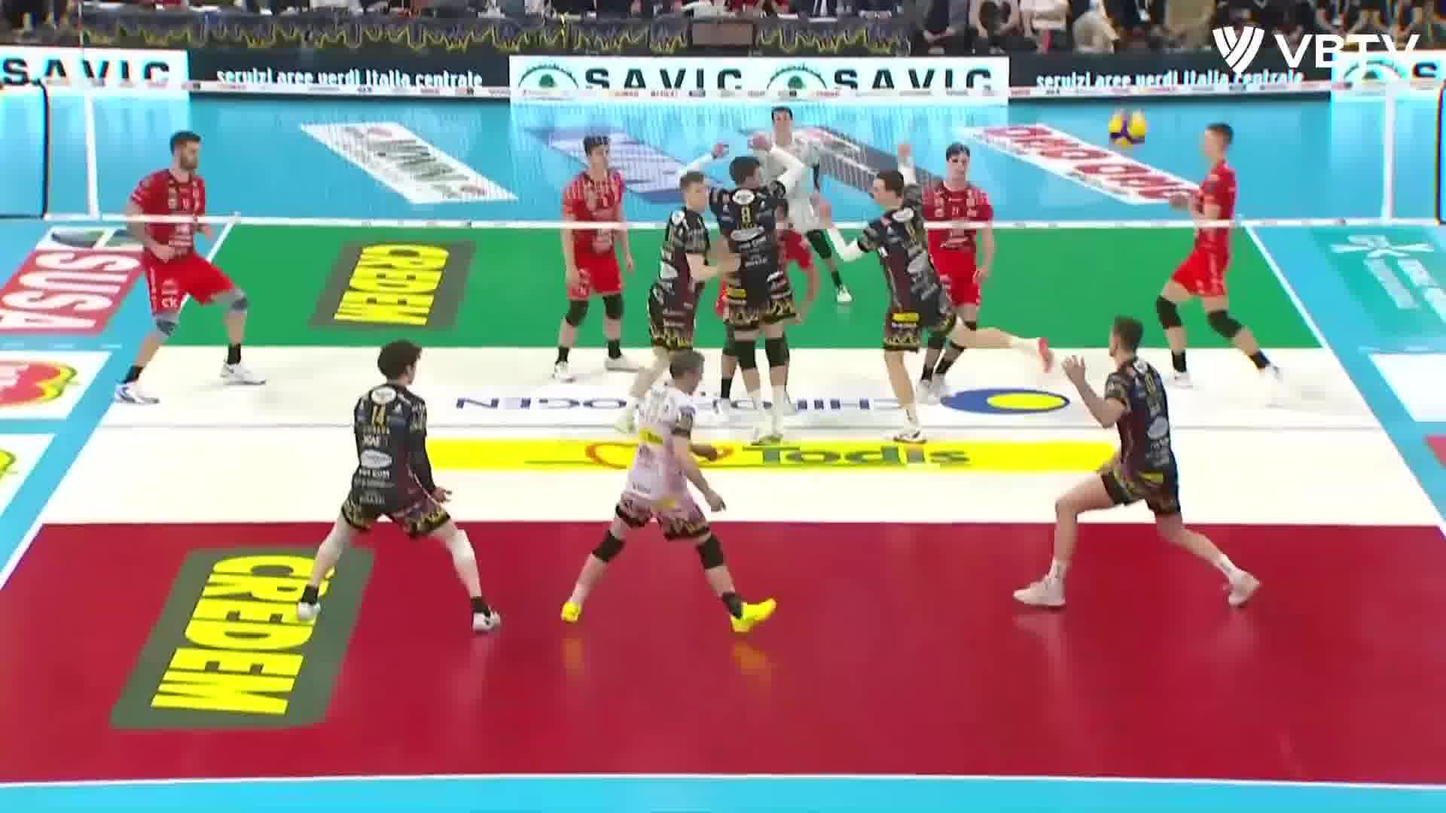balls: (1105, 105, 1153, 152)
